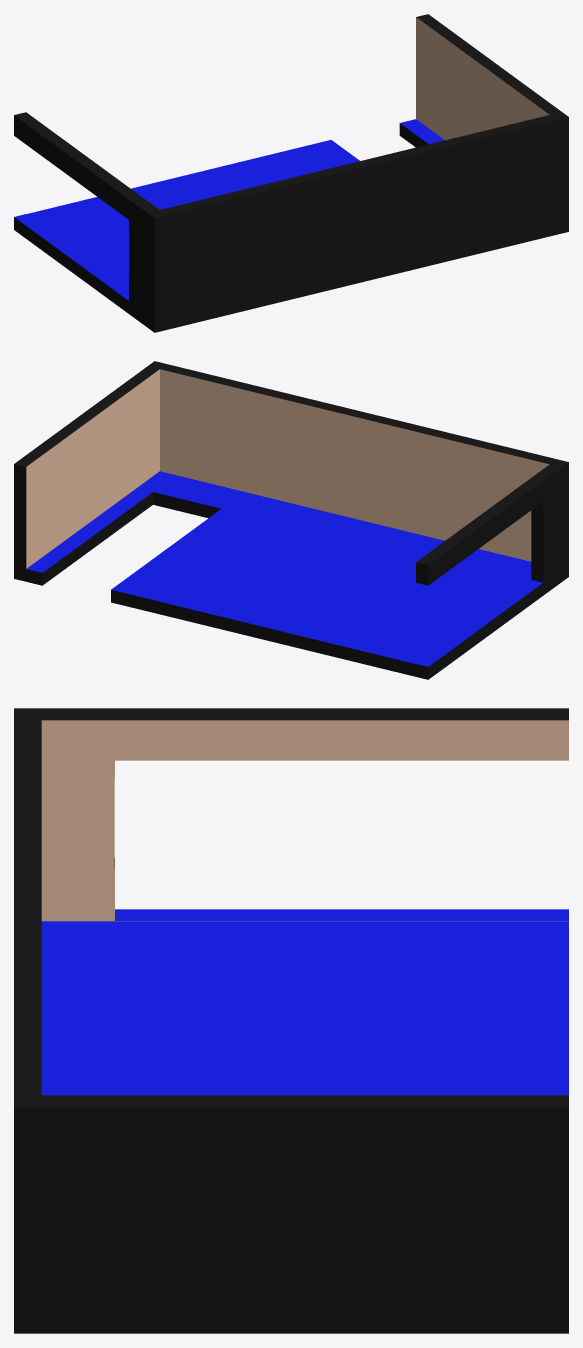
The model's file is Ground Room Model.FBX.
3 renders of one model, top to bottom at view 1: azimuth 30°, elevation 25°; view 2: azimuth 150°, elevation 25°; view 3: azimuth 270°, elevation 25°, orthographic. The views are drawn at different scales.
Visible parts, largest first — view 1: Room; view 2: Room; view 3: Room.
Boxes of the visible parts, x1,y1,x2,y2 form: Room: [14, 14, 568, 332]; Room: [14, 361, 568, 679]; Room: [14, 708, 568, 1333].
Size of the model in its own units: 170 by 45 by 100.
